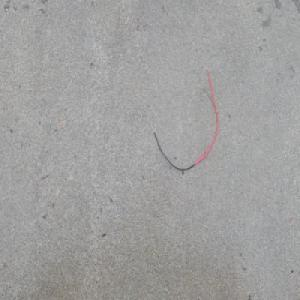Wire: (148, 64, 220, 172)
